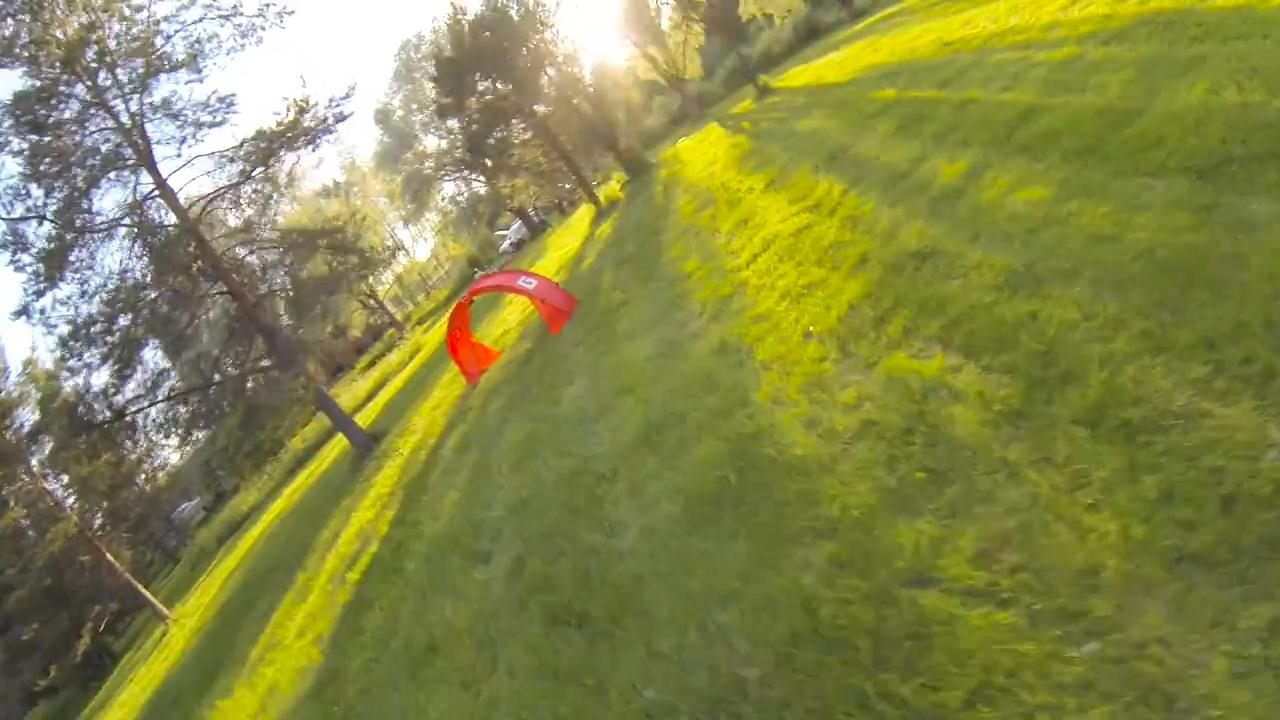gate: (442, 268, 581, 384)
